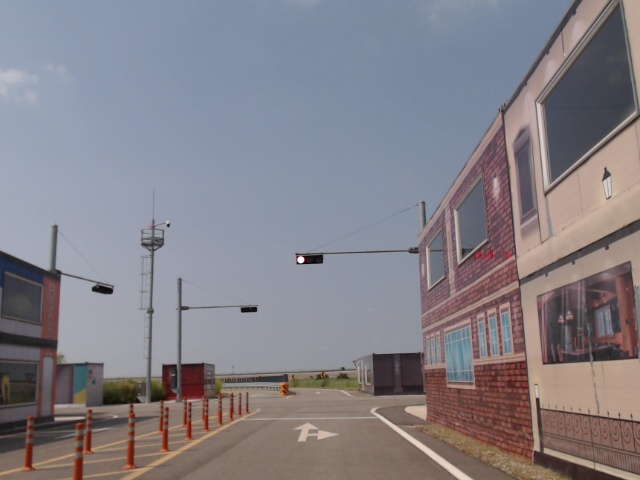red_3: (296, 254, 324, 264)
